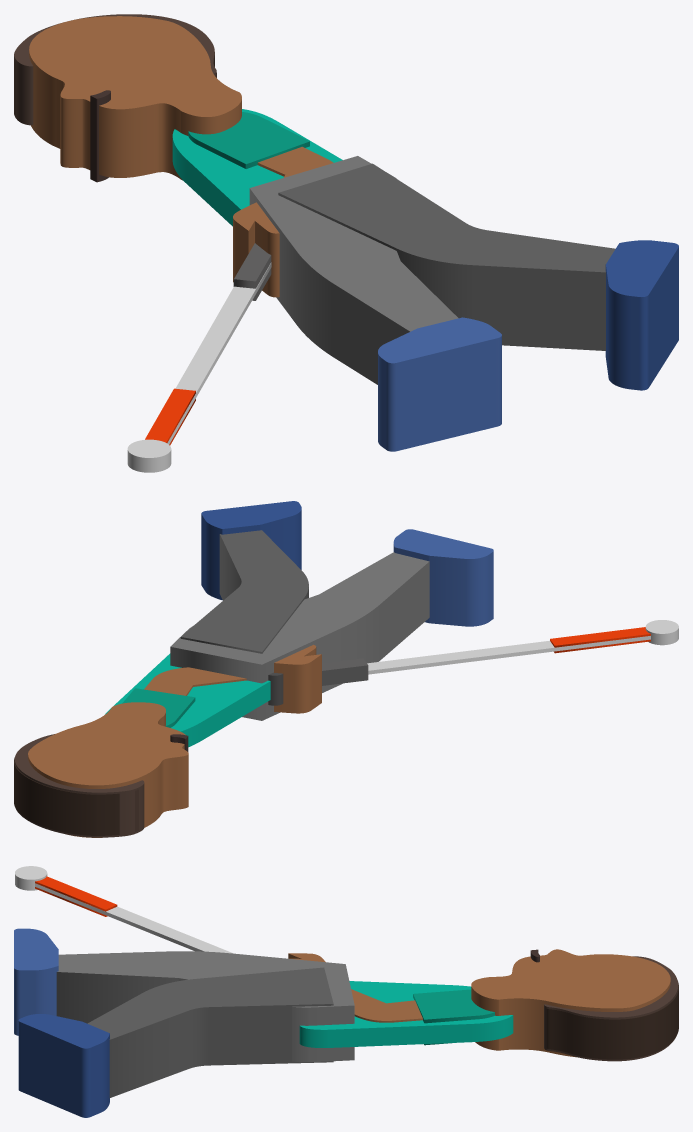
The model's file is emoji_u1f468_1f3fe_200d_1f9af.glb.
The picture shows the model from 3 angles, top to bottom: view 1: azimuth 30°, elevation 25°; view 2: azimuth 150°, elevation 25°; view 3: azimuth 270°, elevation 25°; orthographic projection. The views are drawn at different scales.
Parts seen in each view (by area): view 1: emoji_u1f468_1f3fe_200d_1f9af; view 2: emoji_u1f468_1f3fe_200d_1f9af; view 3: emoji_u1f468_1f3fe_200d_1f9af.
Part boxes in pixels (bbox=[...]): emoji_u1f468_1f3fe_200d_1f9af: bbox=[14, 14, 678, 472]; emoji_u1f468_1f3fe_200d_1f9af: bbox=[14, 501, 678, 837]; emoji_u1f468_1f3fe_200d_1f9af: bbox=[14, 866, 678, 1117].
Bounding box in the file's own units: 0.0249 × 0.0038 × 0.033.
